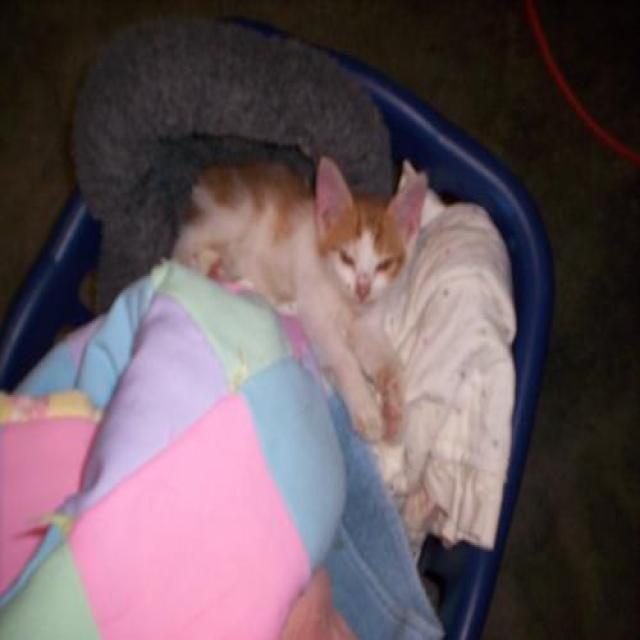cats: (172, 155, 428, 441)
